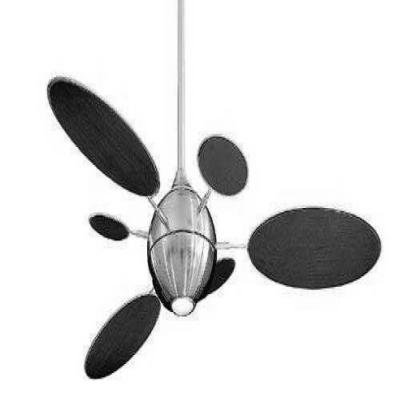ceiling-fan: (45, 75, 382, 380)
